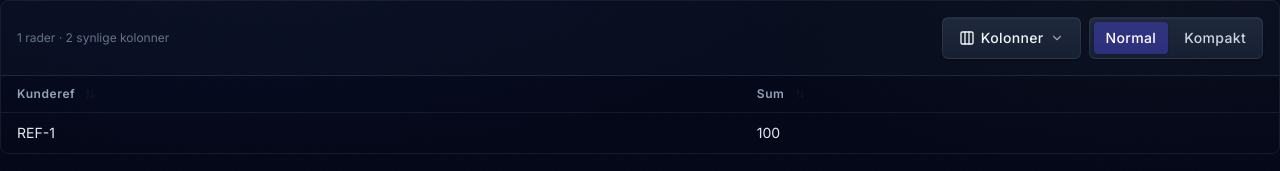
Test case: DataTable columnLabels › viser blyant kun for renamable-kolonner når enableColumnRenaming
What coordinates should you click on to do the following:
click the button "Kolonner"
I would click on:
 (1011, 38)
Its box is [942,17,1081,59].
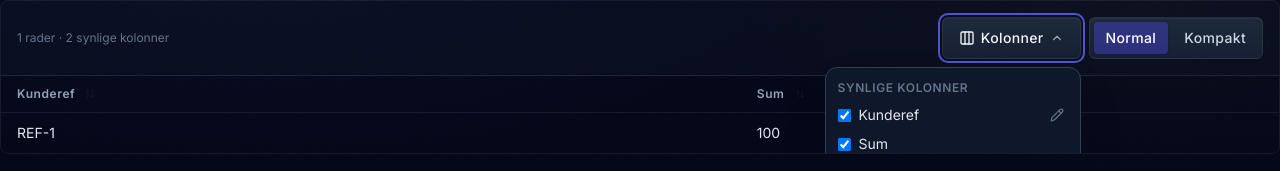
Now the button named "Gi nytt visningsnavn til Kunderef" is shown, box [1046,104,1068,126]
